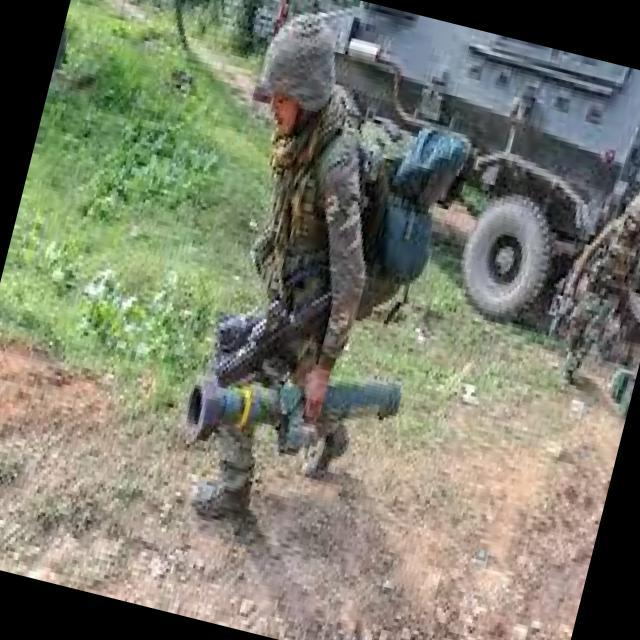rocket: (177, 327, 410, 490)
